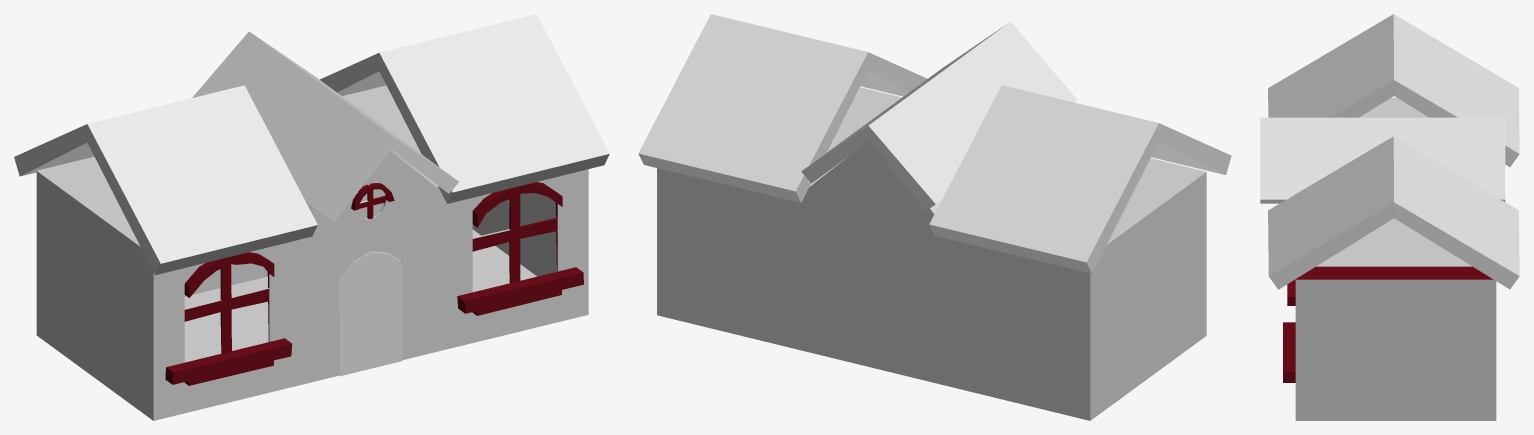
File: i7Alcaldia.fbx
The picture shows the model from 3 angles, left to right: view 1: azimuth 30°, elevation 25°; view 2: azimuth 150°, elevation 25°; view 3: azimuth 270°, elevation 25°; orthographic projection. The views are drawn at different scales.
Visible parts, largest first — view 1: Casa, Cube.008, Cube.009, Cube.006, puerta; view 2: Casa, Cube.008, Cube.009, Cube.006; view 3: Casa, Cube.009, Cube.008, Cube.006.
Part boxes in pixels (x1=…): Casa: x1=36, y1=85, x2=588, y2=420; Cube.008: x1=14, y1=85, x2=317, y2=275; Cube.009: x1=320, y1=14, x2=609, y2=203; Cube.006: x1=192, y1=31, x2=458, y2=221; puerta: x1=339, y1=251, x2=402, y2=376; Casa: x1=657, y1=87, x2=1206, y2=420; Cube.008: x1=929, y1=85, x2=1231, y2=273; Cube.009: x1=638, y1=14, x2=927, y2=202; Cube.006: x1=801, y1=21, x2=1077, y2=211; Casa: x1=1283, y1=97, x2=1496, y2=420; Cube.009: x1=1268, y1=136, x2=1519, y2=289; Cube.008: x1=1268, y1=14, x2=1519, y2=166; Cube.006: x1=1260, y1=117, x2=1505, y2=203.
Size of the model in its own units: 5144 by 2821 by 2992.
